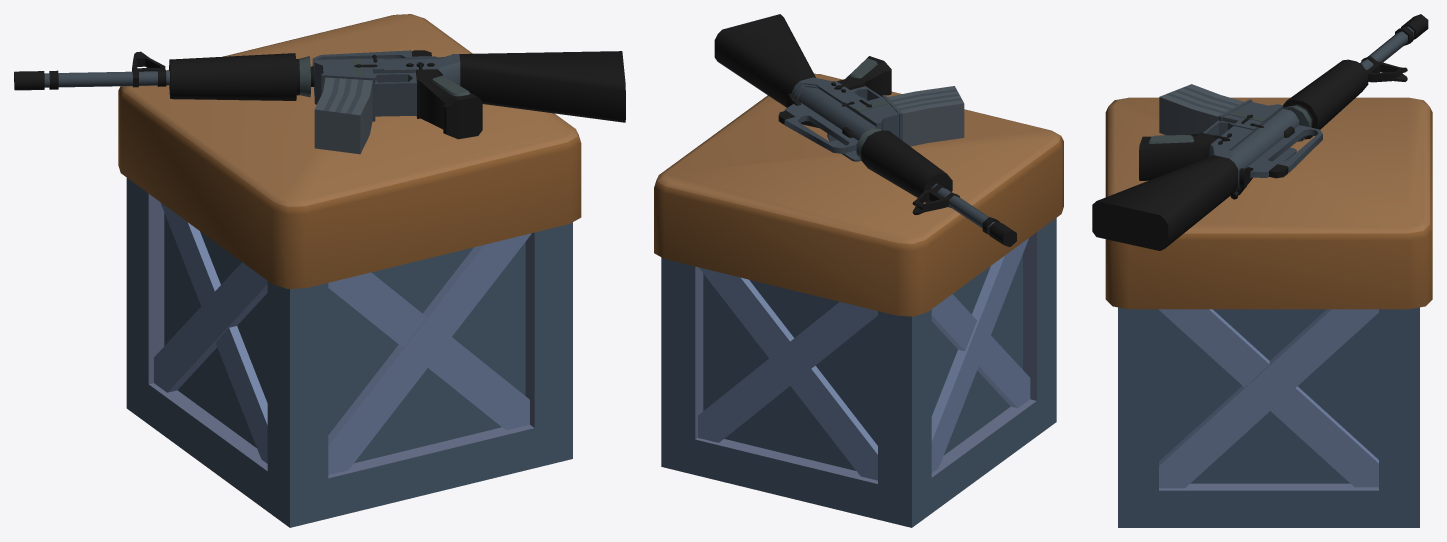
The model's file is Machine_4.fbx.
3 views of the same model, side by side, from view 1: azimuth 30°, elevation 25°; view 2: azimuth 150°, elevation 25°; view 3: azimuth 270°, elevation 25° (orthographic). The views are drawn at different scales.
Visible parts, largest first — view 1: Machine_4; view 2: Machine_4; view 3: Machine_4.
Boxes of the visible parts, box(x1,y1,x2,y2) form: Machine_4: box(14, 14, 625, 527); Machine_4: box(654, 14, 1063, 527); Machine_4: box(1092, 14, 1432, 527).
Bounding box in the file's own units: 133 × 101 × 89.32.
